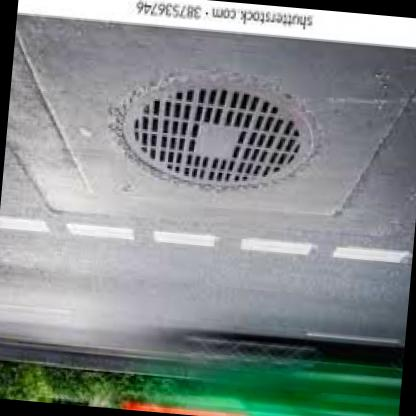manholes: (60, 35, 330, 236)
